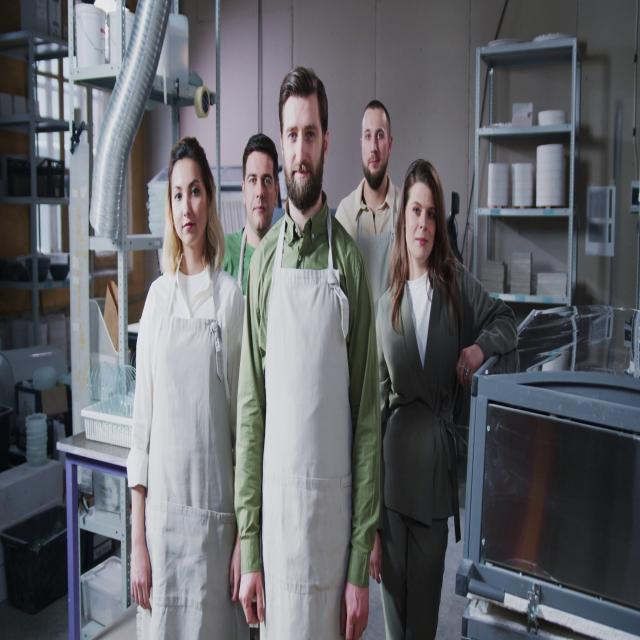not-gloved: (339, 580, 370, 638), (238, 568, 266, 626), (130, 540, 152, 612), (455, 345, 483, 383), (230, 538, 241, 602), (368, 537, 383, 583)
